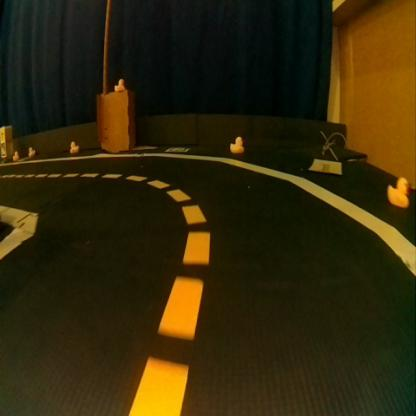Duckie: (388, 176, 410, 207), (229, 136, 243, 152), (114, 78, 124, 91), (70, 140, 78, 154), (12, 150, 18, 160), (29, 147, 35, 155)
QR code: (165, 146, 189, 152)
